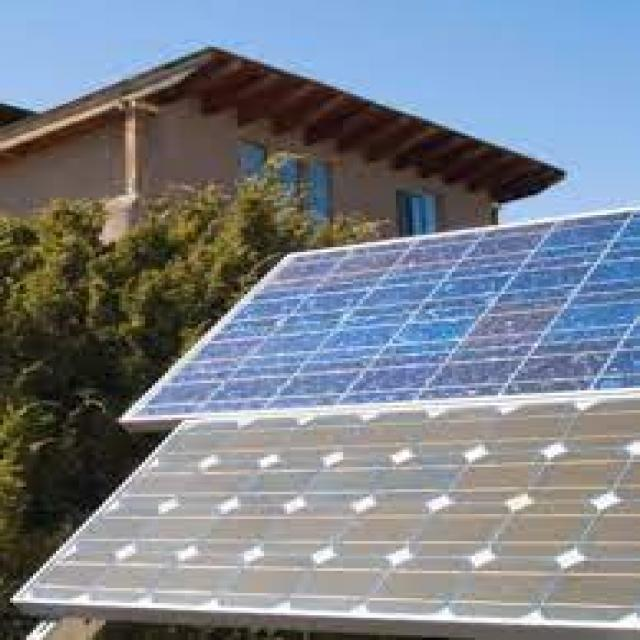faulty: (75, 414, 640, 634), (227, 244, 640, 400)
